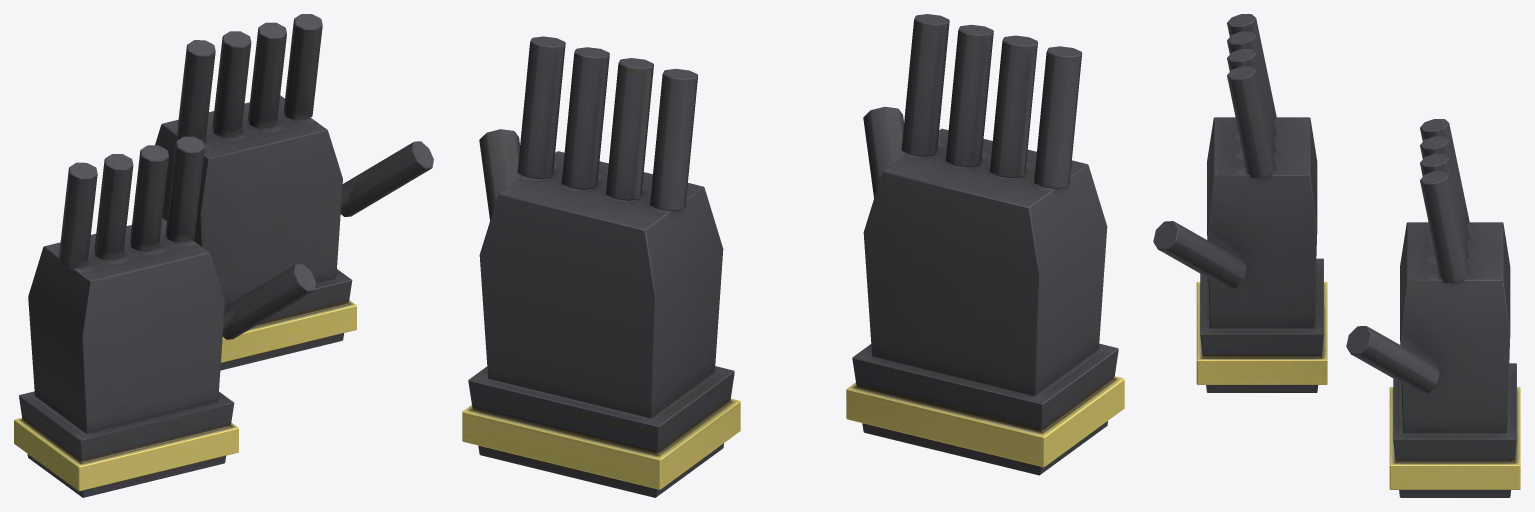
Rendered from IT_rubber_gloves.glb.
3 views of the same model, side by side, from view 1: azimuth 30°, elevation 25°; view 2: azimuth 150°, elevation 25°; view 3: azimuth 270°, elevation 25° (orthographic). The views are drawn at different scales.
Visible parts, largest first — view 1: IT_rubber_gloves; view 2: IT_rubber_gloves; view 3: IT_rubber_gloves.
Boxes of the visible parts, x1,y1,x2,y2 form: IT_rubber_gloves: (14,14,433,497); IT_rubber_gloves: (462,14,1124,497); IT_rubber_gloves: (1153,14,1520,497).
Bounding box in the file's own units: 0.7341 × 0.5038 × 0.5328.
Materials: 1 (1 with a texture image).
